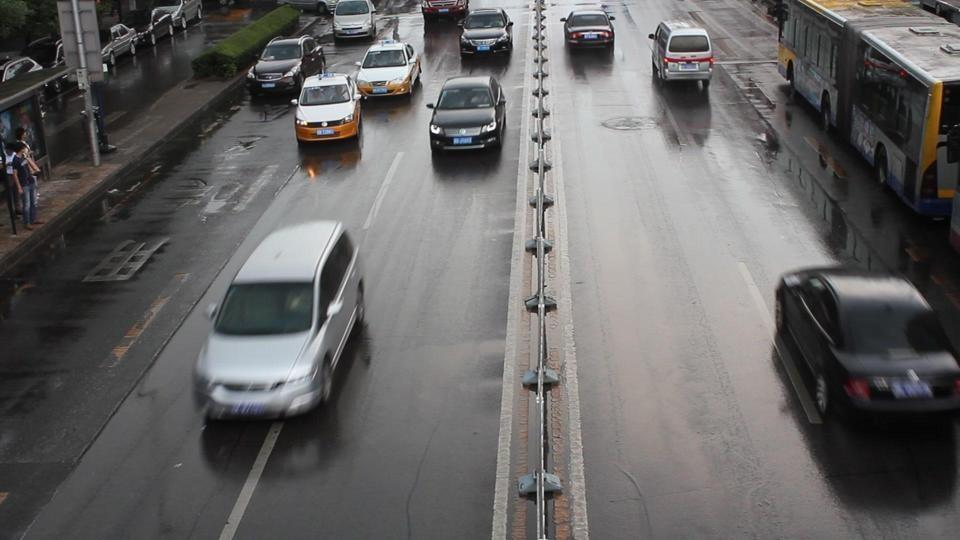car: (191, 218, 368, 424), (770, 267, 960, 434), (427, 74, 508, 152), (246, 35, 326, 101), (293, 71, 364, 143), (649, 19, 714, 87), (354, 40, 422, 99), (458, 6, 514, 61), (563, 8, 616, 53), (331, 0, 377, 41)
